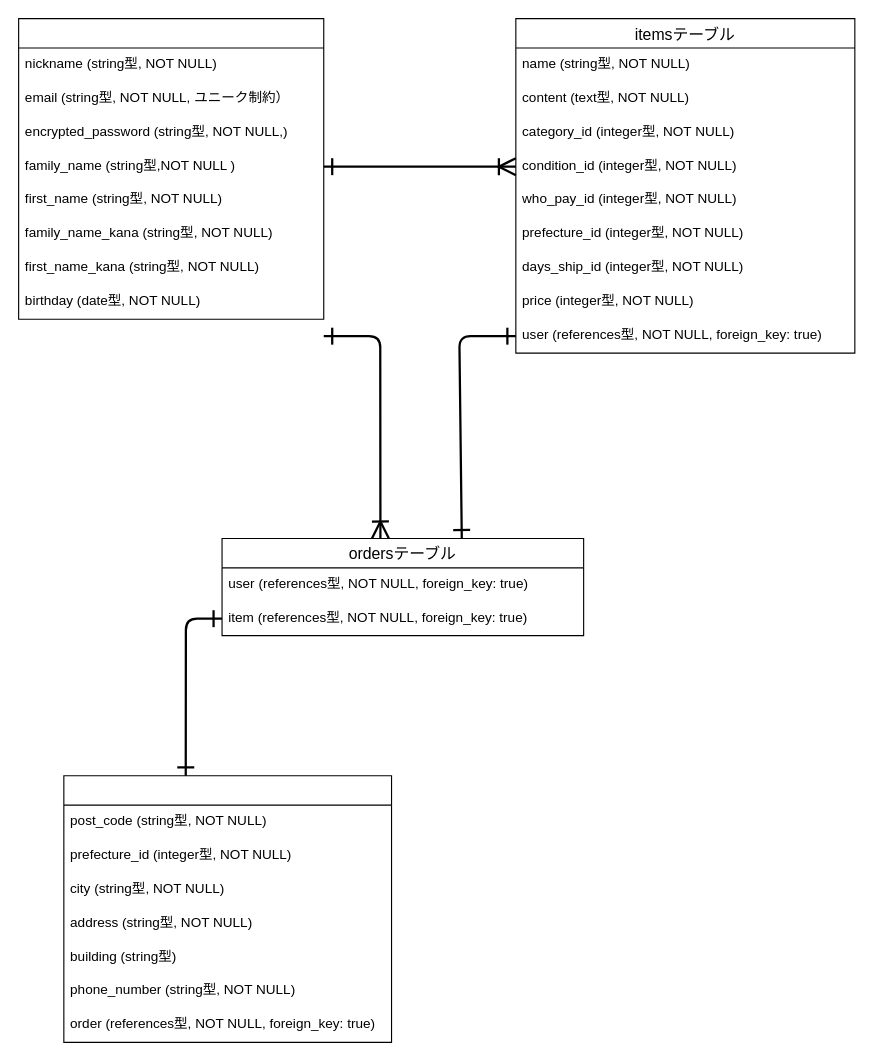
Image size: 873x1061. Some labels were removed from this diagram. The shapes that lost their labels are listed below. From the top down, each one's box as (x1, y1, x2, y2) in pixels, then its label:
(18, 18, 324, 319): Usersテーブル
(63, 775, 392, 1042): buyersテーブル
